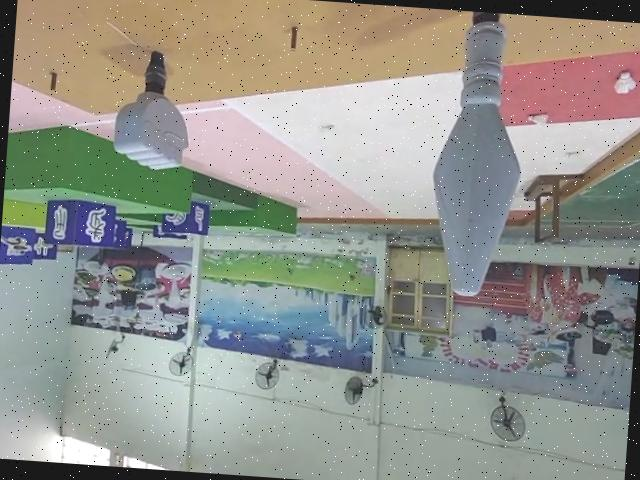Fist: (108, 46, 195, 179)
Sph: (423, 8, 531, 302)
